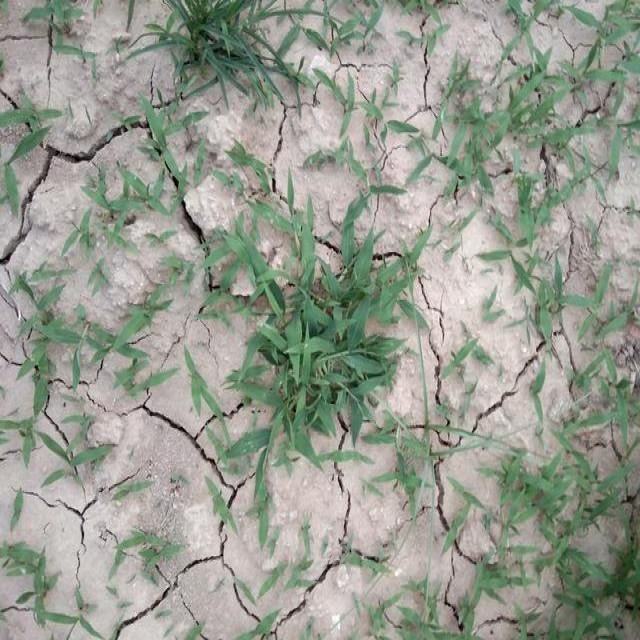weed: (240, 190, 400, 495), (423, 64, 623, 214), (508, 430, 640, 640), (149, 0, 295, 81), (75, 290, 169, 393), (13, 290, 88, 412), (0, 91, 61, 212), (77, 173, 167, 227), (44, 425, 114, 493), (141, 103, 207, 172)
